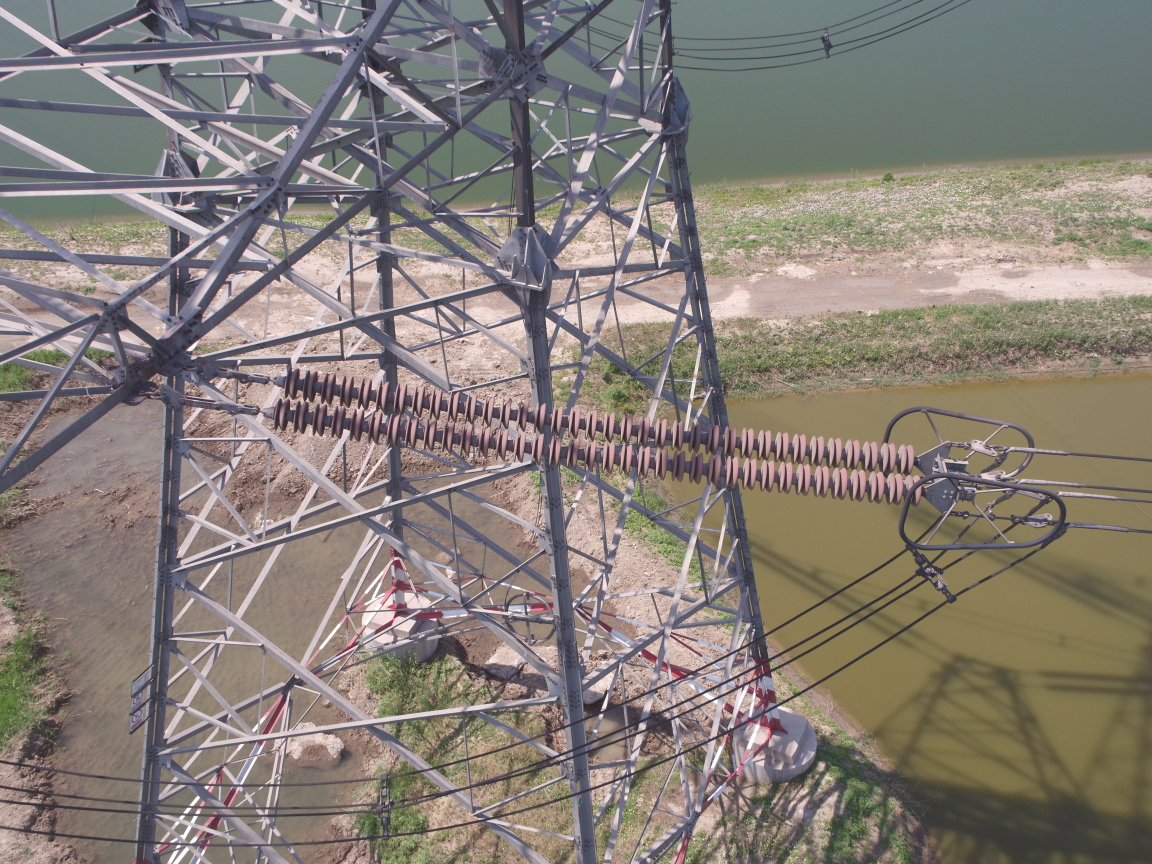insulator: (222, 362, 939, 508)
